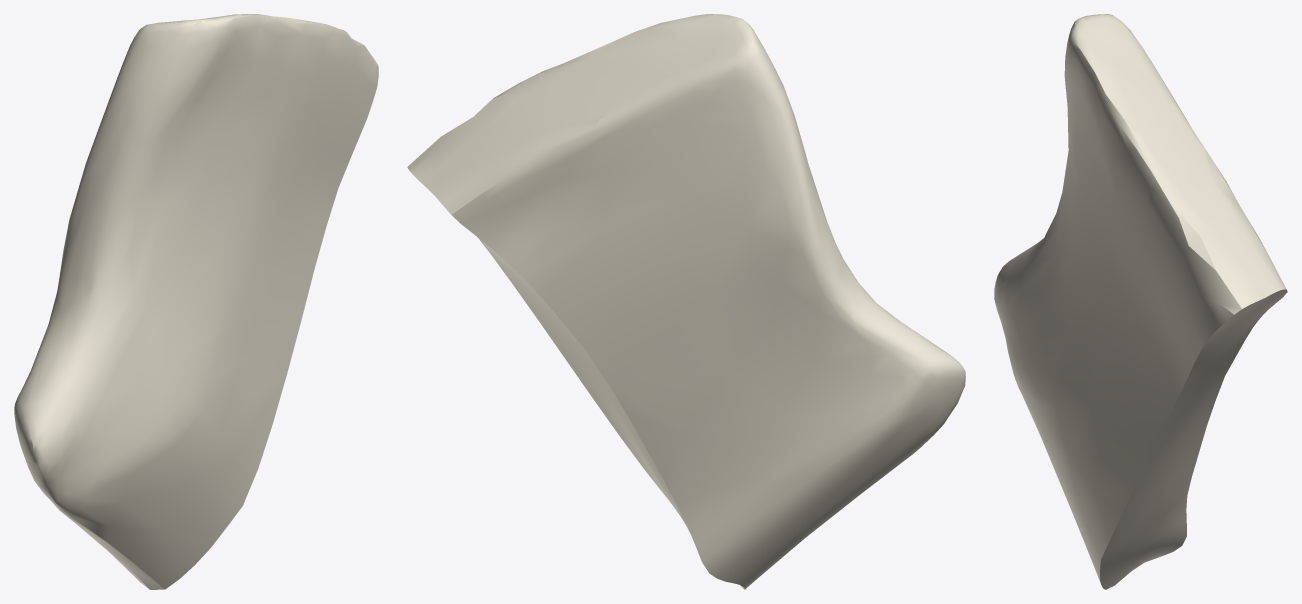
Rendered from fma323751-r_mm2021.glb.
3 views of the same model, side by side, from view 1: azimuth 30°, elevation 25°; view 2: azimuth 150°, elevation 25°; view 3: azimuth 270°, elevation 25° (orthographic). The views are drawn at different scales.
Parts seen in each view (by area): view 1: FMA323751-R_MM2021; view 2: FMA323751-R_MM2021; view 3: FMA323751-R_MM2021.
Boxes of the visible parts, box(x1,y1,x2,y2) form: FMA323751-R_MM2021: box(14, 14, 378, 589); FMA323751-R_MM2021: box(407, 14, 965, 589); FMA323751-R_MM2021: box(994, 14, 1287, 589).
Bounding box in the file's own units: 0.00956 × 0.0114 × 0.00523.
